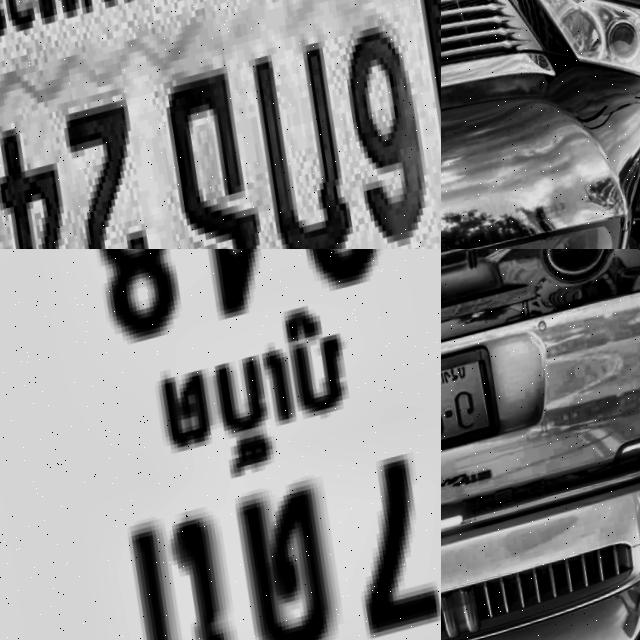license-plate: (0, 249, 441, 640), (0, 0, 441, 249), (441, 339, 508, 486)
